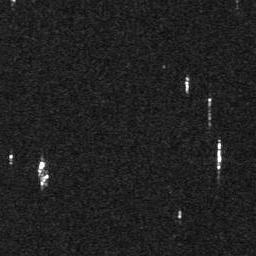ship: (216, 141, 223, 163), (37, 160, 47, 175), (40, 174, 50, 187), (185, 77, 191, 92)
